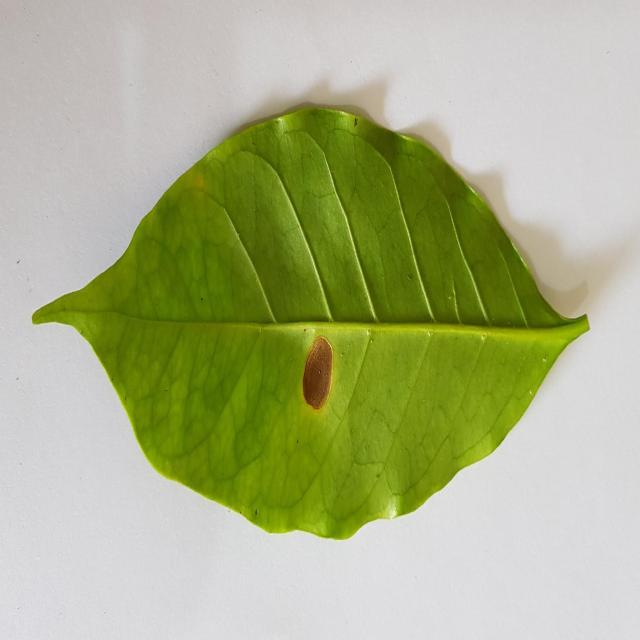miner: (302, 335, 334, 410)
